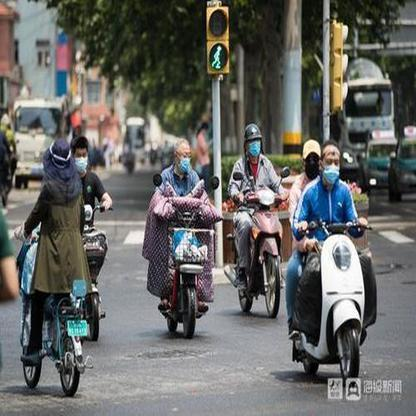target: (290, 139, 379, 382), (13, 137, 93, 397), (141, 137, 223, 337)
